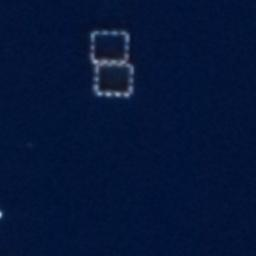square_solid: (90, 59, 137, 101), (86, 26, 134, 67)
